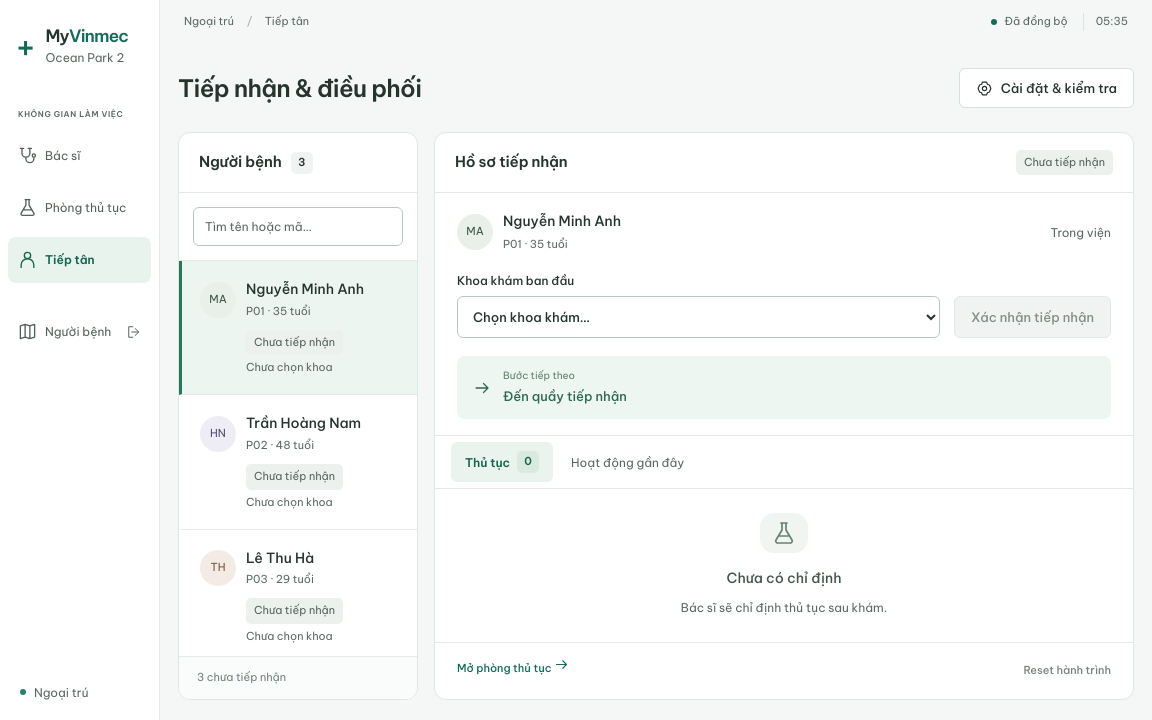
it: cross-screen command recovery › does not rebase an old command after the same patient was reset on another screen
The width and height of the screenshot is (1152, 720).
Select "Khoa Tim mạch" in the dropdown named "Khoa khám ban đầu" at (699, 318), box x1=457 y1=296 x2=940 y2=338
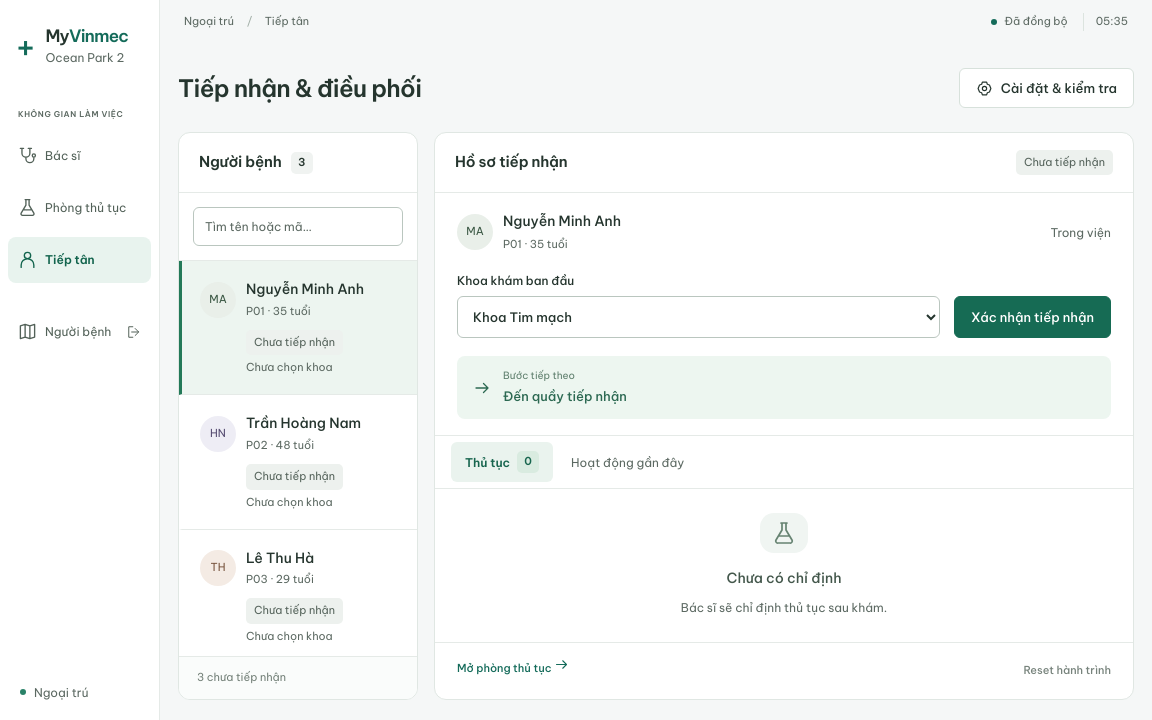
Click the button "Xác nhận tiếp nhận" at (1033, 318), box x1=954 y1=296 x2=1111 y2=338
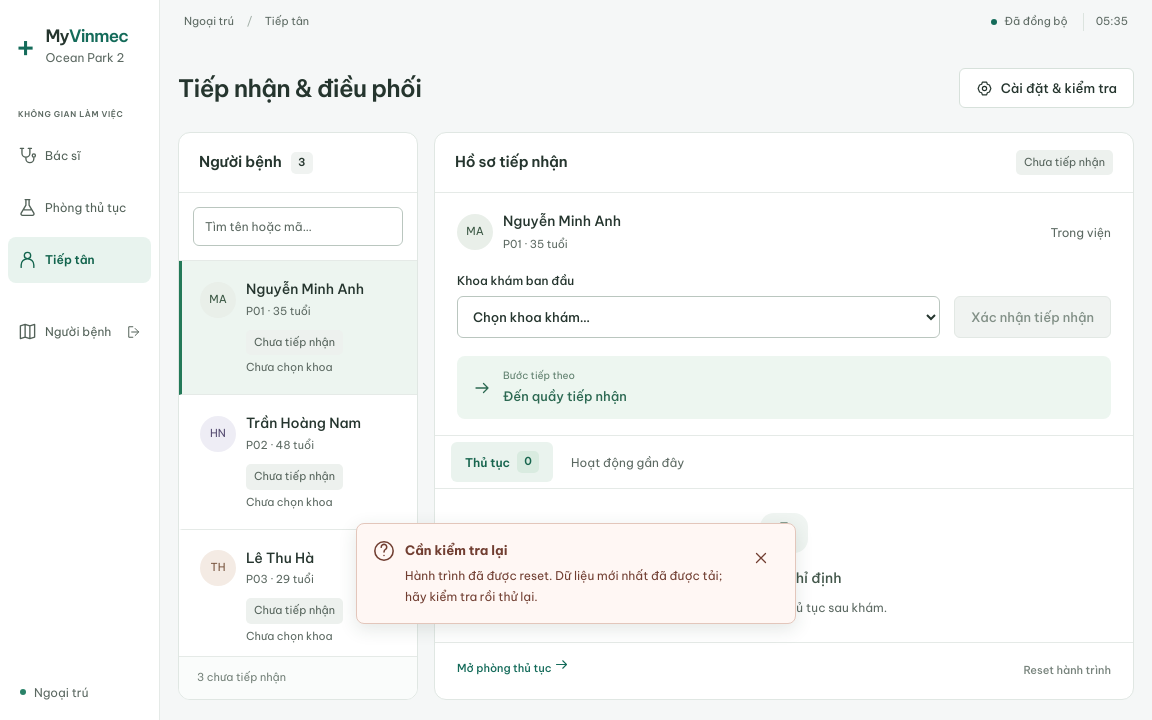
Now the message shows "reset", box x1=405 y1=568 x2=722 y2=604
